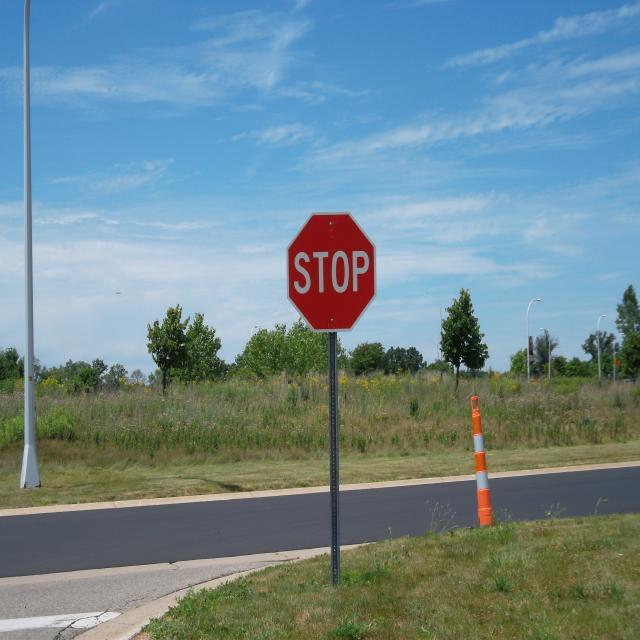stop: (281, 204, 378, 336)
